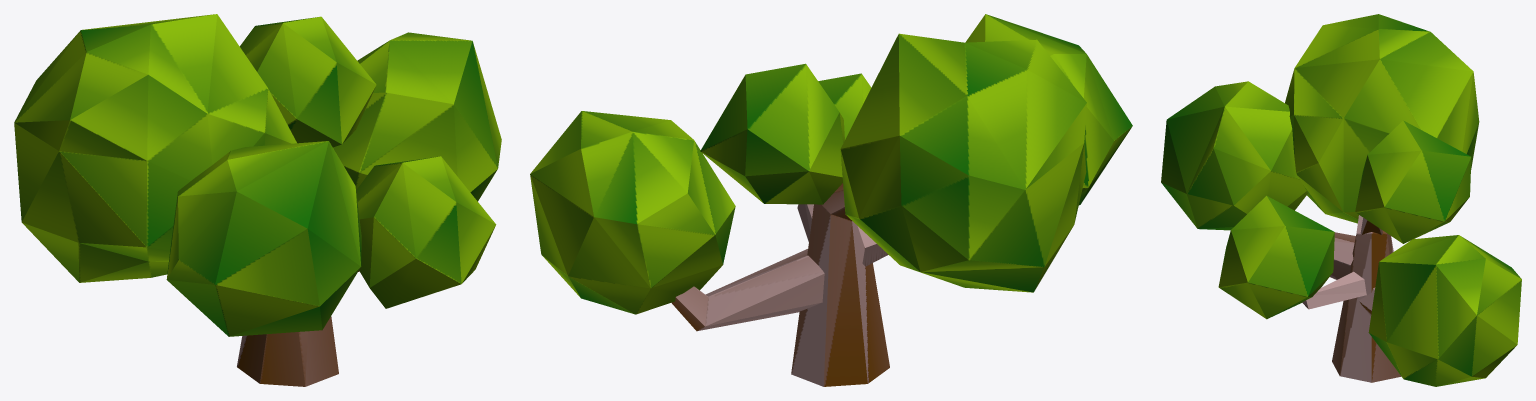
File: Laubbaum1_final.fbx
3 renders of one model, left to right at view 1: azimuth 30°, elevation 25°; view 2: azimuth 150°, elevation 25°; view 3: azimuth 270°, elevation 25°, orthographic. The views are drawn at different scales.
Visible parts, largest first — view 1: laubbaul1_final_1; view 2: laubbaul1_final_1; view 3: laubbaul1_final_1.
Part boxes in pixels (x1,y1,x2,y2): laubbaul1_final_1: (14,14,501,386); laubbaul1_final_1: (530,14,1132,386); laubbaul1_final_1: (1161,14,1521,386).
Size of the model in its own units: 5411 by 3857 by 4412.
